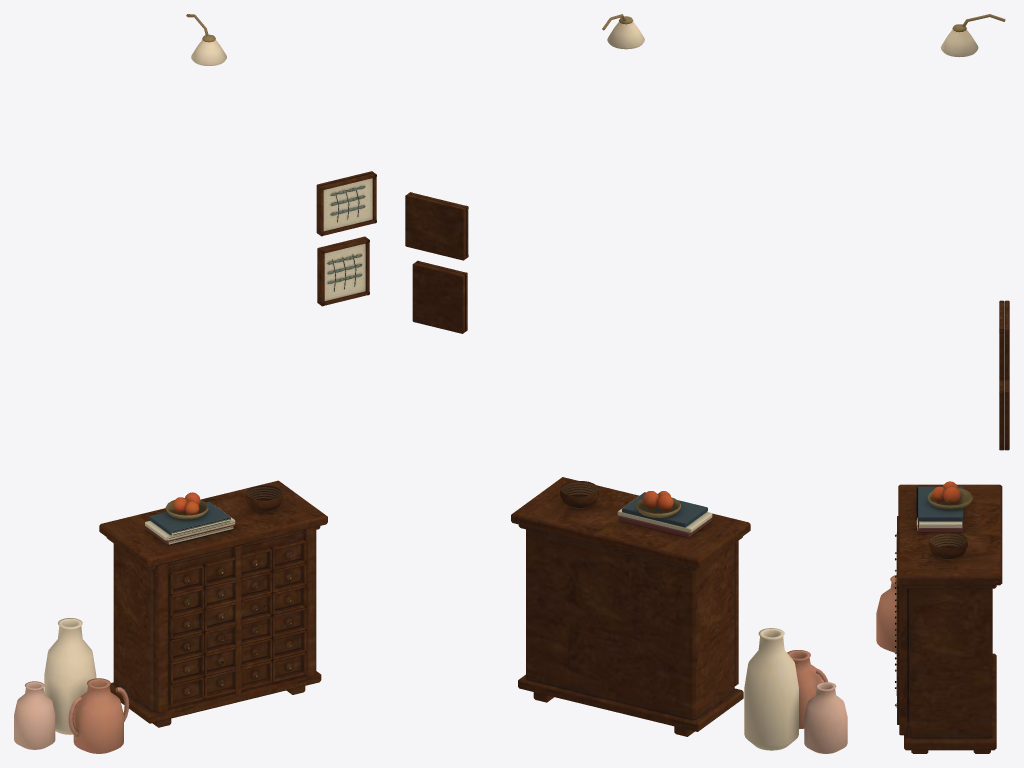
Rendered from heritage-room.glb.
The picture shows the model from 3 angles, left to right: view 1: azimuth 30°, elevation 25°; view 2: azimuth 150°, elevation 25°; view 3: azimuth 270°, elevation 25°; orthographic projection. The views are drawn at different scales.
Visible parts, largest first — view 1: Heritage room - baked static furnishings; view 2: Heritage room - baked static furnishings; view 3: Heritage room - baked static furnishings.
Part boxes in pixels (<box>): Heritage room - baked static furnishings: <box>14,14,376,753</box>; Heritage room - baked static furnishings: <box>405,14,847,753</box>; Heritage room - baked static furnishings: <box>876,14,1009,753</box>.
Bounding box in the file's own units: 2.49 × 4.1 × 0.704.
1 material, 1 textured.
